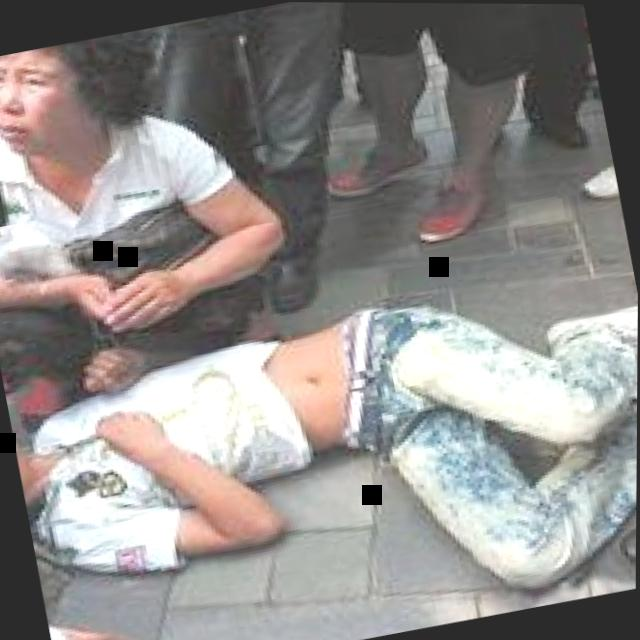Fall-Detected: (0, 185, 639, 640)
